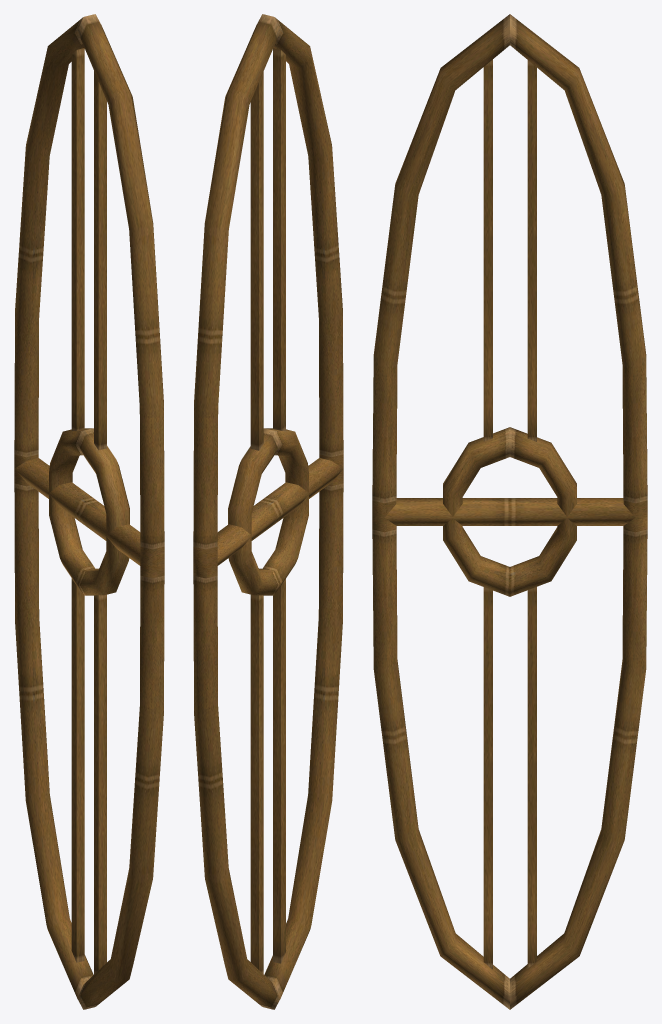
The model's file is thm_nboo_gungan_shield_s01_l0.fbx.
3 views of the same model, side by side, from view 1: azimuth 30°, elevation 25°; view 2: azimuth 150°, elevation 25°; view 3: azimuth 270°, elevation 25° (orthographic).
Visible parts, largest first — view 1: mesh_node; view 2: mesh_node; view 3: mesh_node.
Boxes of the visible parts, box(x1,y1,x2,y2) form: mesh_node: box(14, 14, 164, 1009); mesh_node: box(193, 14, 343, 1009); mesh_node: box(372, 14, 647, 1009).
Bounding box in the file's own units: 0.2216 × 8.7 × 2.19.
